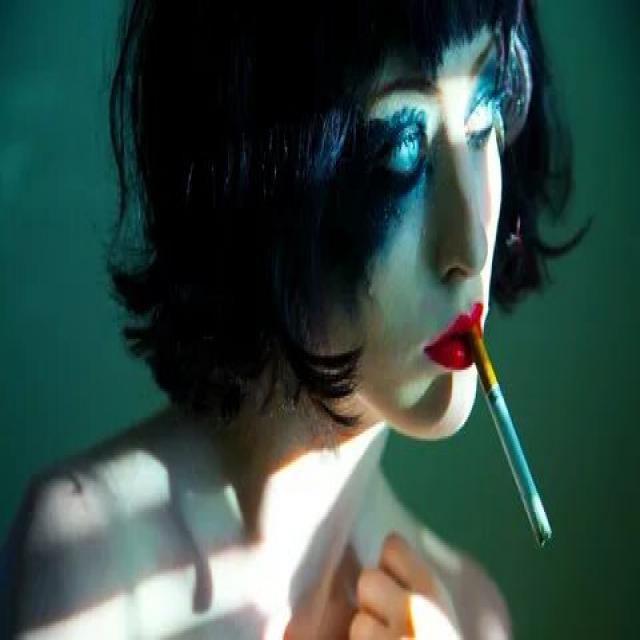cigarette: (468, 322, 553, 552)
